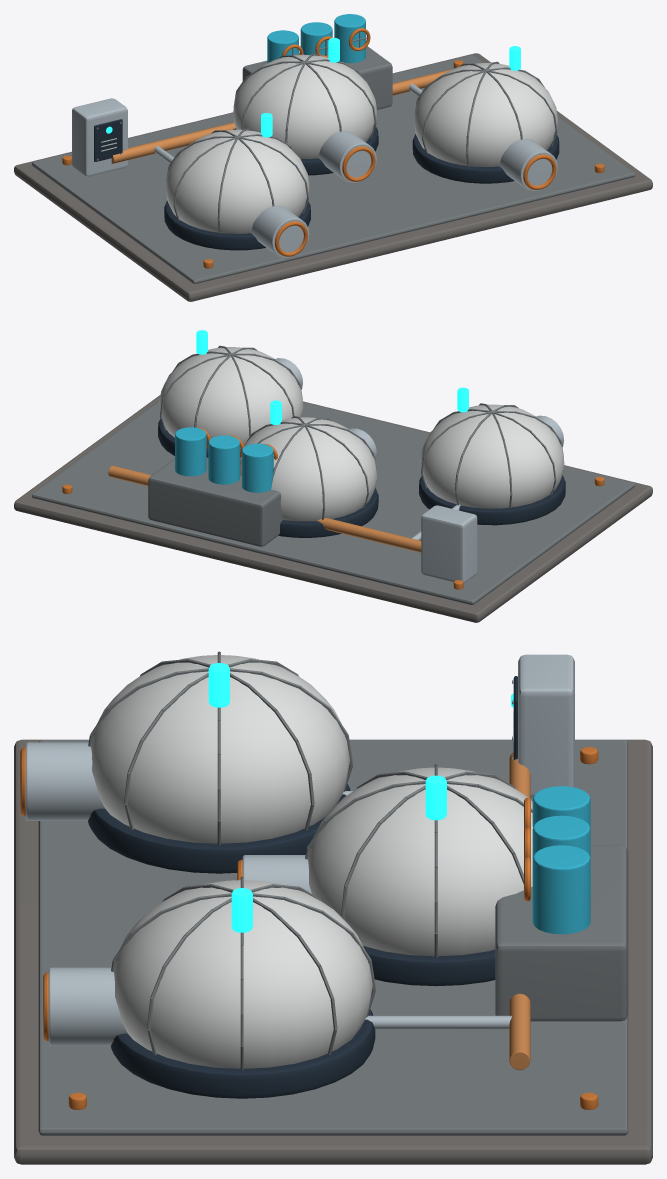
The model's file is sublimation-camp.glb.
3 renders of one model, top to bottom at view 1: azimuth 30°, elevation 25°; view 2: azimuth 150°, elevation 25°; view 3: azimuth 270°, elevation 25°, orthographic. The views are drawn at different scales.
Visible parts, largest first — view 1: RenderBatch_SublimationCamp_SUB_Frame, SublimationCamp_Foundation, Sublimation_TentShell_01, Sublimation_TentShell_03, Sublimation_TentShell_02, RenderBatch_SublimationCamp_SUB_CryoBlue, Sublimation_ControlCabinet, RenderBatch_Sublimation_Tent_01_SUB_Body, RenderBatch_Sublimation_Tent_03_SUB_Body, Sublimation_TentSkirt_03, Sublimation_TentSkirt_01, RenderBatch_Sublimation_Tent_02_SUB_Body (+9 smaller); view 2: RenderBatch_SublimationCamp_SUB_Frame, SublimationCamp_Foundation, Sublimation_TentShell_01, Sublimation_TentShell_03, Sublimation_TentShell_02, RenderBatch_SublimationCamp_SUB_CryoBlue, Sublimation_ControlCabinet, Sublimation_TentSkirt_01, Sublimation_Header, Detail_Sublimation_Tent_01, Sublimation_TentSkirt_02, Detail_Sublimation_Tent_03 (+1 smaller); view 3: RenderBatch_SublimationCamp_SUB_Frame, SublimationCamp_Foundation, Sublimation_TentShell_03, Sublimation_TentShell_01, Sublimation_TentShell_02, RenderBatch_SublimationCamp_SUB_CryoBlue, Sublimation_TentSkirt_03, RenderBatch_Sublimation_Tent_03_SUB_Body, Sublimation_ControlCabinet, Sublimation_TentSkirt_01, RenderBatch_Sublimation_Tent_01_SUB_Body, Detail_Sublimation_Tent_01 (+9 smaller).
Boxes of the visible parts, <box> form: RenderBatch_SublimationCamp_SUB_Frame: <box>32,46,634,283</box>; SublimationCamp_Foundation: <box>14,53,652,301</box>; Sublimation_TentShell_01: <box>165,129,309,233</box>; Sublimation_TentShell_03: <box>414,63,557,166</box>; Sublimation_TentShell_02: <box>233,54,377,158</box>; RenderBatch_SublimationCamp_SUB_CryoBlue: <box>267,14,365,63</box>; Sublimation_ControlCabinet: <box>72,98,127,176</box>; RenderBatch_Sublimation_Tent_01_SUB_Body: <box>154,146,309,258</box>; RenderBatch_Sublimation_Tent_03_SUB_Body: <box>409,83,557,191</box>; Sublimation_TentSkirt_03: <box>412,134,559,183</box>; Sublimation_TentSkirt_01: <box>164,200,310,250</box>; RenderBatch_Sublimation_Tent_02_SUB_Body: <box>318,130,376,183</box>; RenderBatch_SublimationCamp_SUB_Frame: <box>32,401,634,604</box>; SublimationCamp_Foundation: <box>14,395,652,622</box>; Sublimation_TentShell_01: <box>420,404,564,508</box>; Sublimation_TentShell_03: <box>159,347,303,450</box>; Sublimation_TentShell_02: <box>240,417,377,521</box>; RenderBatch_SublimationCamp_SUB_CryoBlue: <box>175,427,273,492</box>; Sublimation_ControlCabinet: <box>421,505,477,582</box>; Sublimation_TentSkirt_01: <box>419,475,565,525</box>; Sublimation_Header: <box>108,465,421,552</box>; Detail_Sublimation_Tent_01: <box>421,403,563,508</box>; Sublimation_TentSkirt_02: <box>278,488,378,537</box>; Detail_Sublimation_Tent_03: <box>160,345,302,436</box>; RenderBatch_SublimationCamp_SUB_Frame: <box>38,739,628,1135</box>; SublimationCamp_Foundation: <box>14,739,652,1164</box>; Sublimation_TentShell_03: <box>113,880,372,1068</box>; Sublimation_TentShell_01: <box>91,655,349,843</box>; Sublimation_TentShell_02: <box>307,767,532,956</box>; RenderBatch_SublimationCamp_SUB_CryoBlue: <box>532,786,590,934</box>; Sublimation_TentSkirt_03: <box>111,1009,375,1098</box>; RenderBatch_Sublimation_Tent_03_SUB_Body: <box>48,967,511,1045</box>; Sublimation_ControlCabinet: <box>518,654,574,797</box>; Sublimation_TentSkirt_01: <box>88,784,350,873</box>; RenderBatch_Sublimation_Tent_01_SUB_Body: <box>25,742,352,820</box>; Detail_Sublimation_Tent_01: <box>88,651,353,845</box>.
Bounding box in the file's own units: 12.8 × 3.03 × 8.4.
